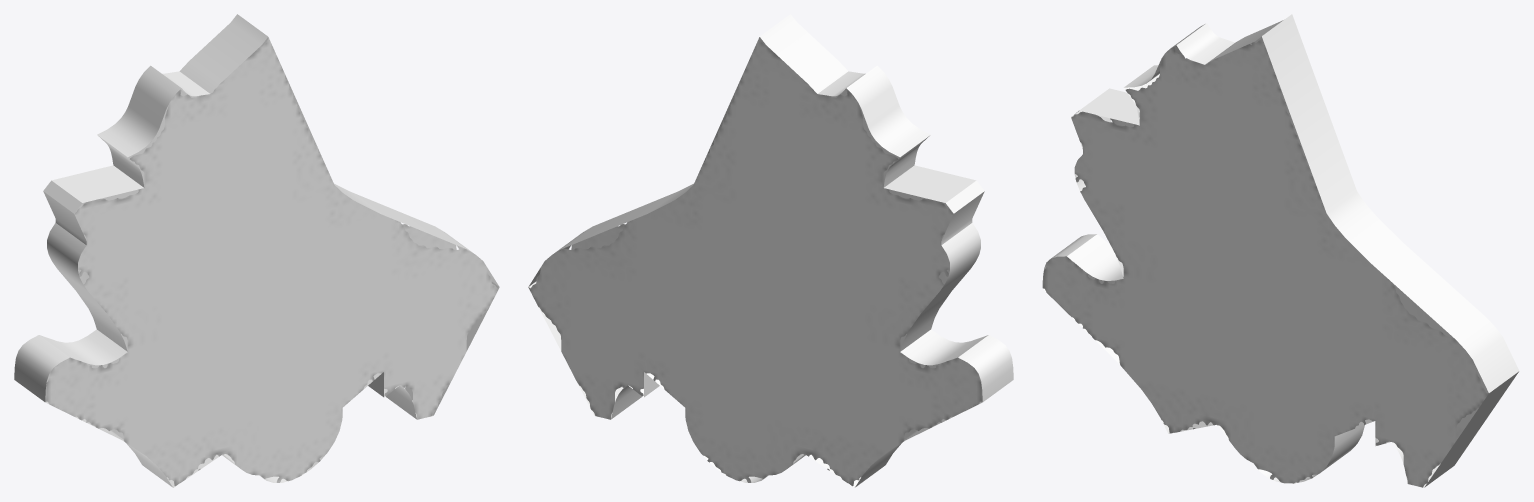
The model's file is Abruzzo.OBJ.
3 renders of one model, left to right at view 1: azimuth 30°, elevation 25°; view 2: azimuth 150°, elevation 25°; view 3: azimuth 330°, elevation 25°, orthographic.
Bounding box in the file's own units: 110 × 104 × 13.
3 materials, 3 textured.
